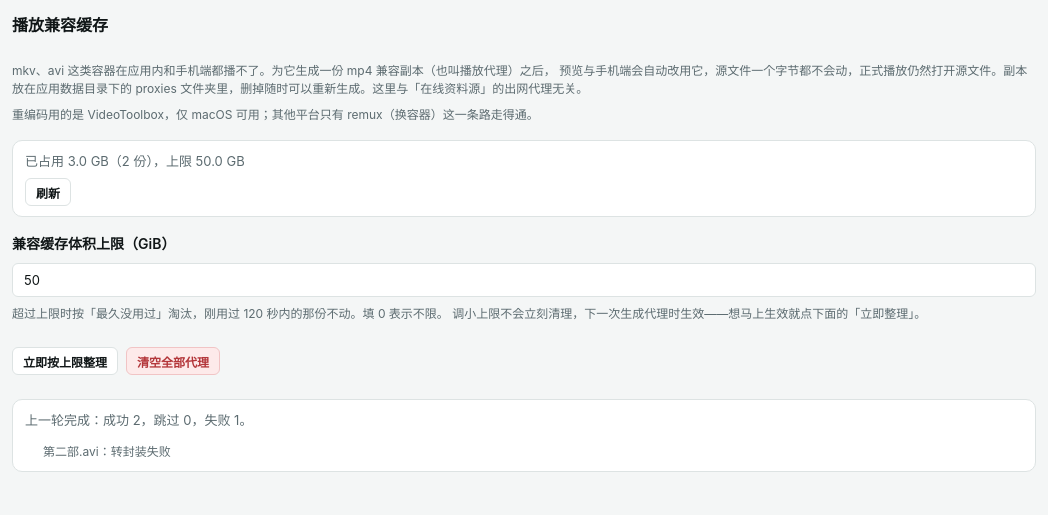
Test: ProxySection › 「清空全部」先确认再调后端
This screenshot has width=1048, height=515.
Click the button with test id "proxy-clear-all" at (173, 361), box [126,347,220,375]
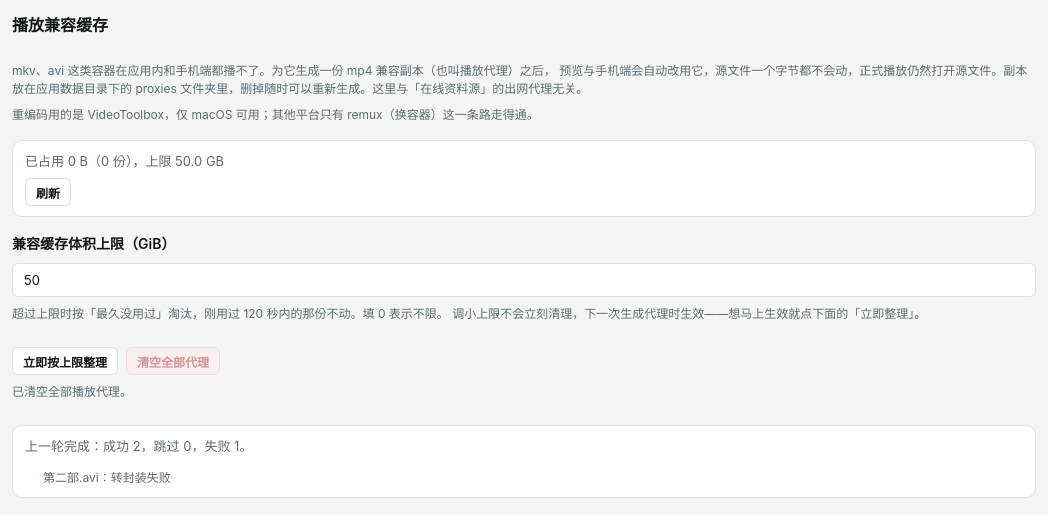
Now the text with test id "proxy-usage-text" shows "0 份", box [25,153,224,169]
